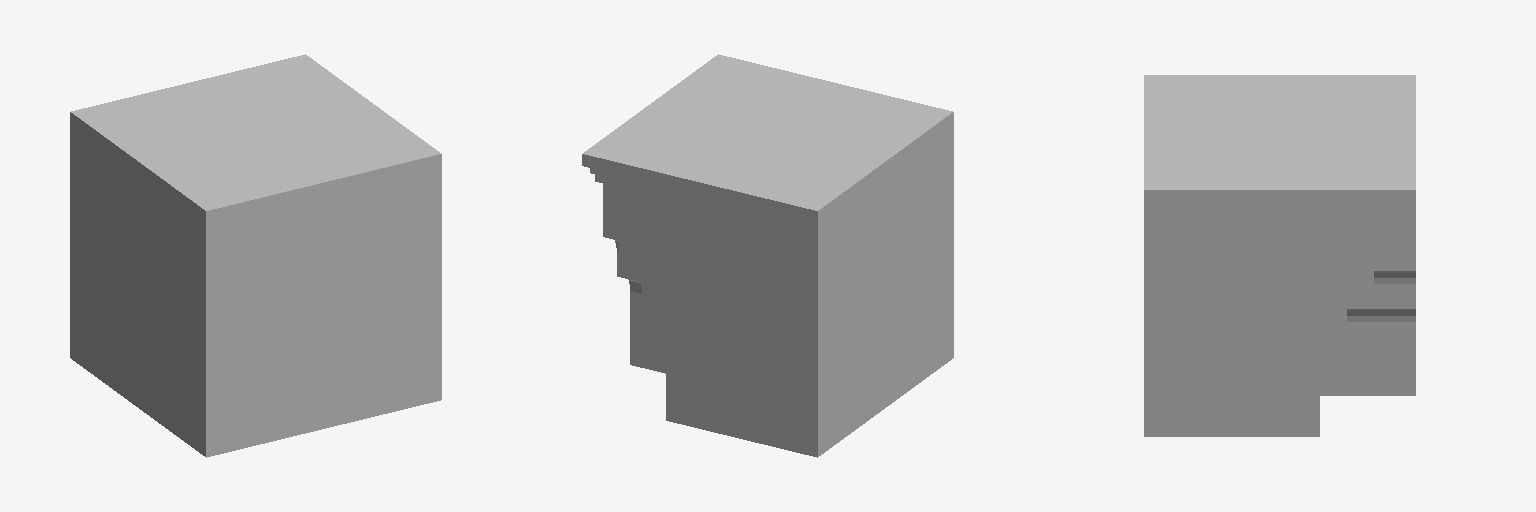
File: sans_nom.obj
3 views of the same model, side by side, from view 1: azimuth 30°, elevation 25°; view 2: azimuth 150°, elevation 25°; view 3: azimuth 270°, elevation 25° (orthographic).
Parts seen in each view (by area): view 1: SketchUp.001; view 2: SketchUp.001; view 3: SketchUp.001.
Part boxes in pixels (left/top/right/bottom): SketchUp.001: left=70, top=54, right=441, bottom=457; SketchUp.001: left=582, top=54, right=953, bottom=457; SketchUp.001: left=1144, top=75, right=1415, bottom=436.
Size of the model in its own units: 1 by 1 by 1.